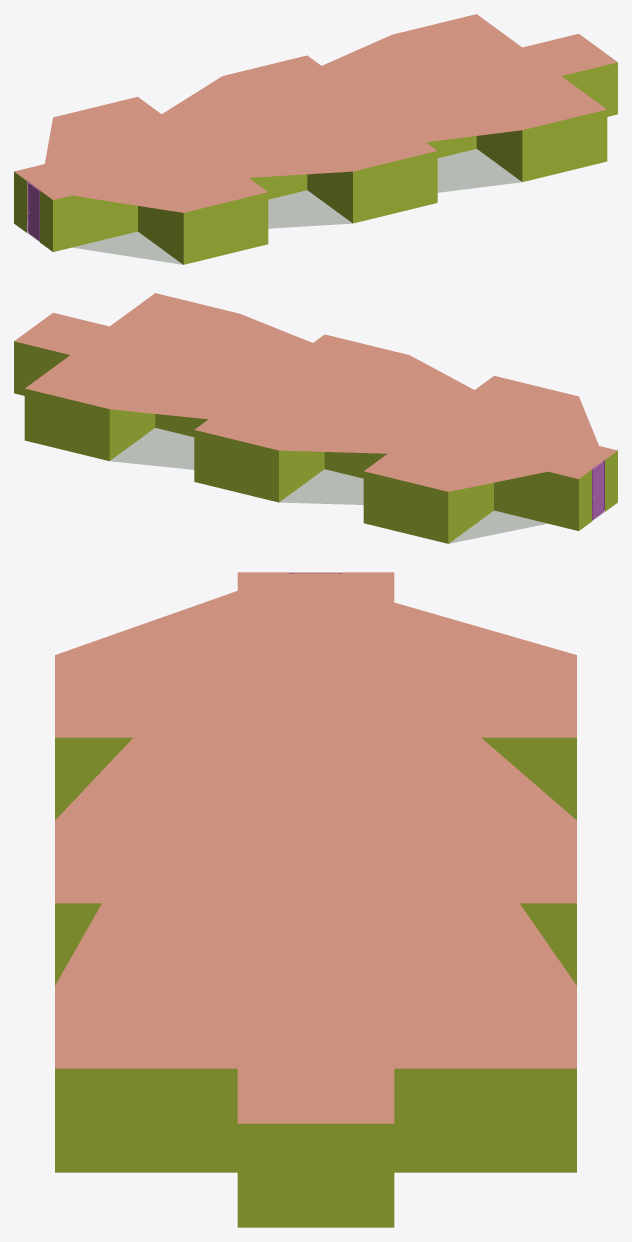
File: Museum.fbx
3 views of the same model, one above another, from view 1: azimuth 30°, elevation 25°; view 2: azimuth 150°, elevation 25°; view 3: azimuth 270°, elevation 25° (orthographic). The views are drawn at different scales.
Parts seen in each view (by area): view 1: Plane, Door; view 2: Plane, Door; view 3: Plane.
Boxes of the visible parts, x1,y1,x2,y2 form: Plane: (14,14,617,264); Door: (27,180,41,241); Plane: (14,293,617,543); Door: (592,460,604,520); Plane: (55,572,576,1227).
Size of the model in its own units: 4547 by 405 by 1818.
